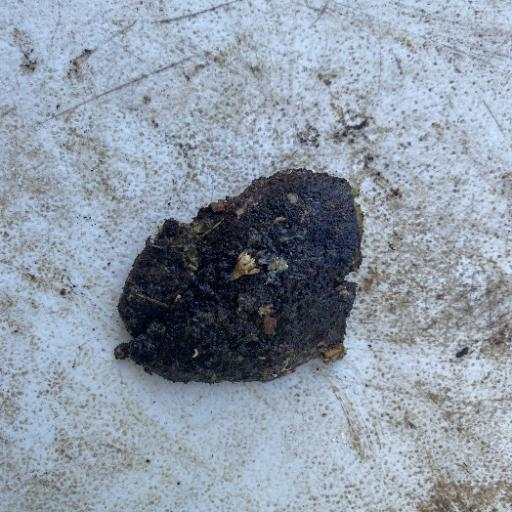Waste: (112, 166, 364, 385)
